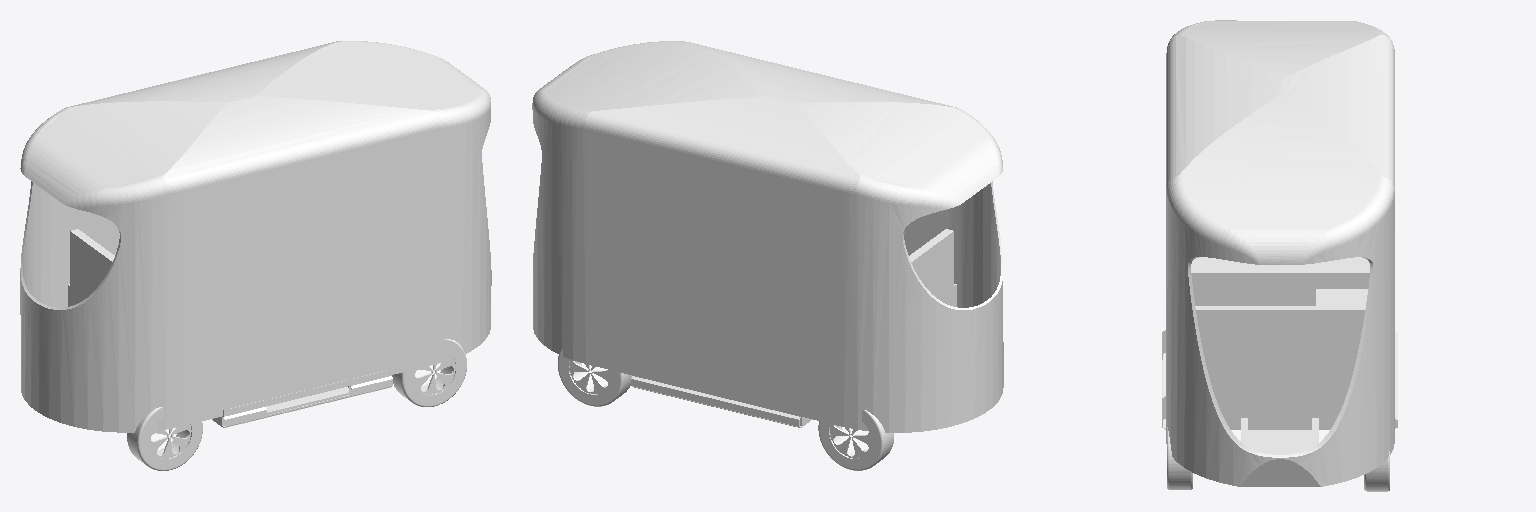
robot.urdf — alleyhoop:
<?xml version="1.0"?>
  <robot name="alleyhoop">
    <link name="base_link">
      <visual>
        <origin rpy="1.57 0 0" xyz="-1 0.5 0"/>
        <geometry>
          <mesh filename="package://alleyhoop_monitor/meshes/AlleyHoopBaseLink.stl" scale="0.0005 0.0005 0.0005"/>
        </geometry>
        <material name="white">
          <color rgba="1 1 1 1"/>
        </material>
      </visual>
      <collision>
      <geometry>
        <mesh filename="package://alleyhoop_monitor/meshes/AlleyHoopBaseLink.stl" scale="0.0005 0.0005 0.0005"/>
      </geometry>
      <material name="yellow">
        <color rgba="0 1 1 1"/>
      </material>
    </collision>
    </link>

    <link name="lidar_link">
      <visual>
        <geometry>
          <cylinder length="0.1" radius="0.1"/>
        </geometry>
        <origin rpy="0 0 0" xyz="0 0 0"/>
          <material name="black">
            <color rgba="0 0 0 1"/>
          </material>
      </visual>
    </link>
  
    <joint name="base_to_lidar" type="fixed">
      <parent link="base_link"/>
      <child link="lidar_link"/>
      <origin xyz="0 0 1"/>
    </joint>
</robot>

--- Facts derived from the render (not from the file) ---
3 views of the same robot in one strip: view 1: azimuth 30°, elevation 25°; view 2: azimuth 150°, elevation 25°; view 3: azimuth 270°, elevation 25° (orthographic).
Robot: alleyhoop — 2 links, 1 joints (1 fixed); root link base_link; default pose: every joint at zero.
Links seen in each view (by area): view 1: base_link; view 2: base_link; view 3: base_link.
Boxes of the visible links, x1,y1,x2,y2 form: base_link: (20,41,491,470); base_link: (532,41,1003,470); base_link: (1162,20,1397,491).
Size in the robot's own frame: 2.13 by 0.915 by 1.4 metres.
1 mesh visuals loaded from 1 distinct referenced files (1 binary STL).